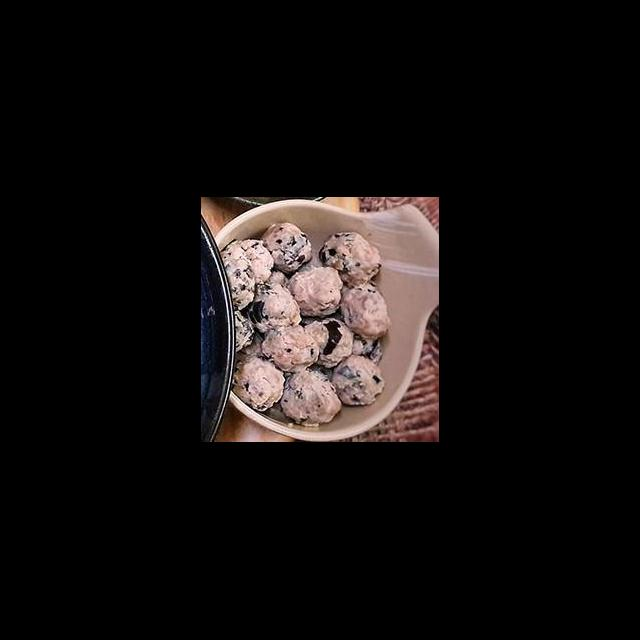vien moc: (278, 366, 345, 430), (317, 232, 386, 290), (335, 280, 396, 344), (327, 350, 389, 410), (285, 262, 348, 321), (230, 352, 289, 414), (259, 320, 324, 374), (304, 312, 359, 368), (259, 220, 316, 274), (216, 248, 261, 314), (224, 236, 276, 288), (229, 308, 257, 357)
